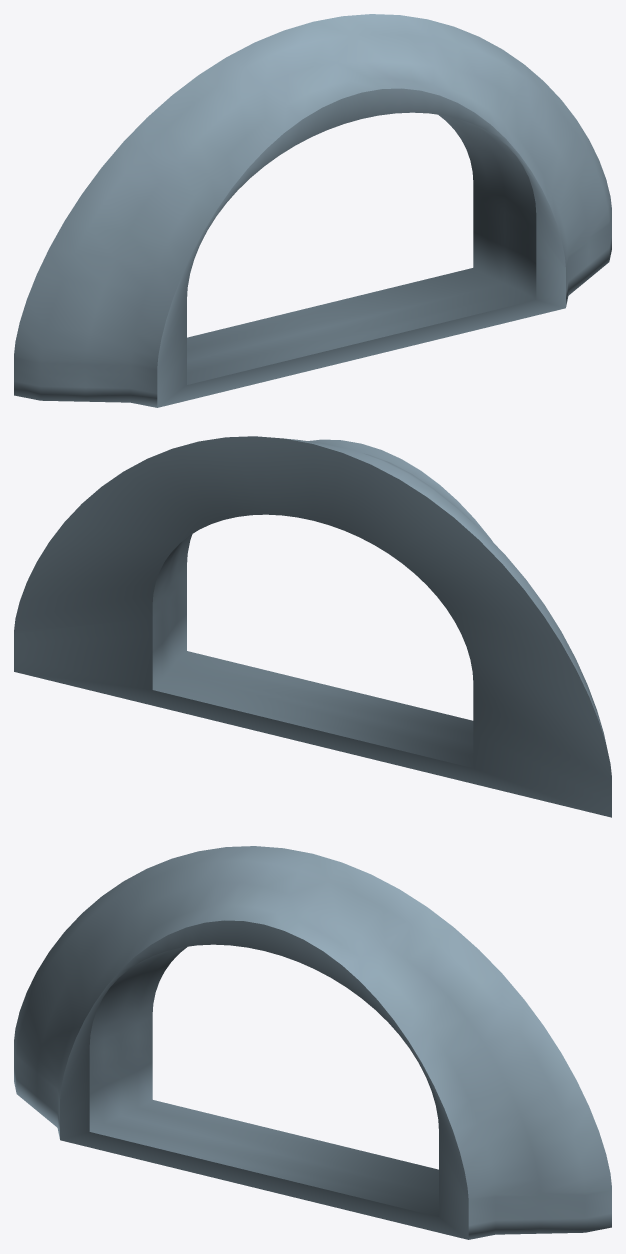
File: portal_entry_terrain.glb
3 renders of one model, top to bottom at view 1: azimuth 30°, elevation 25°; view 2: azimuth 150°, elevation 25°; view 3: azimuth 330°, elevation 25°, orthographic.
Visible parts, largest first — view 1: TerrainRoof; view 2: TerrainRoof; view 3: TerrainRoof.
Boxes of the visible parts, <box> form: TerrainRoof: <box>14,14,611,407</box>; TerrainRoof: <box>14,436,611,817</box>; TerrainRoof: <box>14,846,611,1239</box>.
Bounding box in the file's own units: 28.4 × 13.65 × 4.
